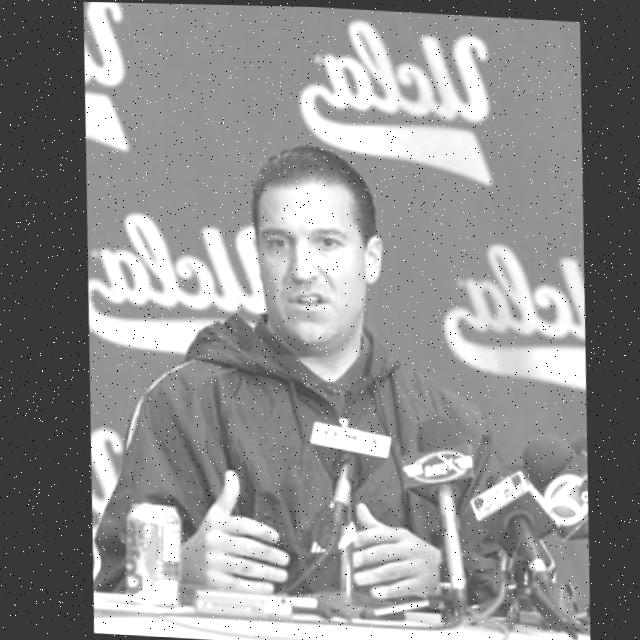face: (247, 179, 376, 375)
